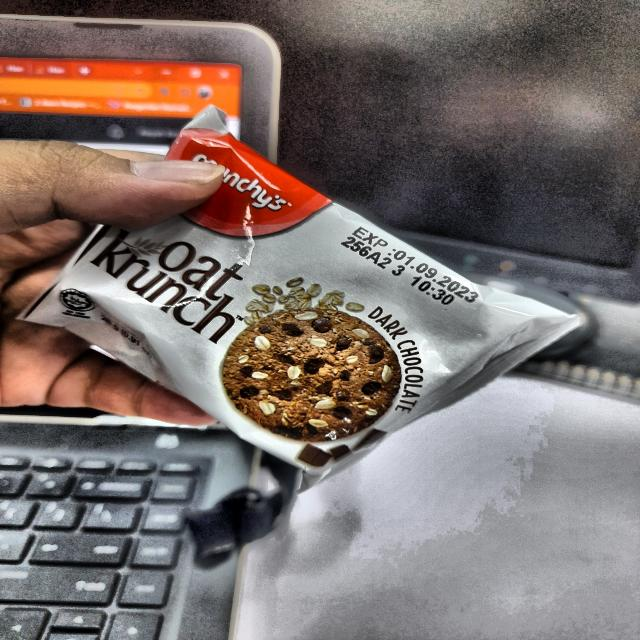Plastic: (80, 118, 525, 460)
